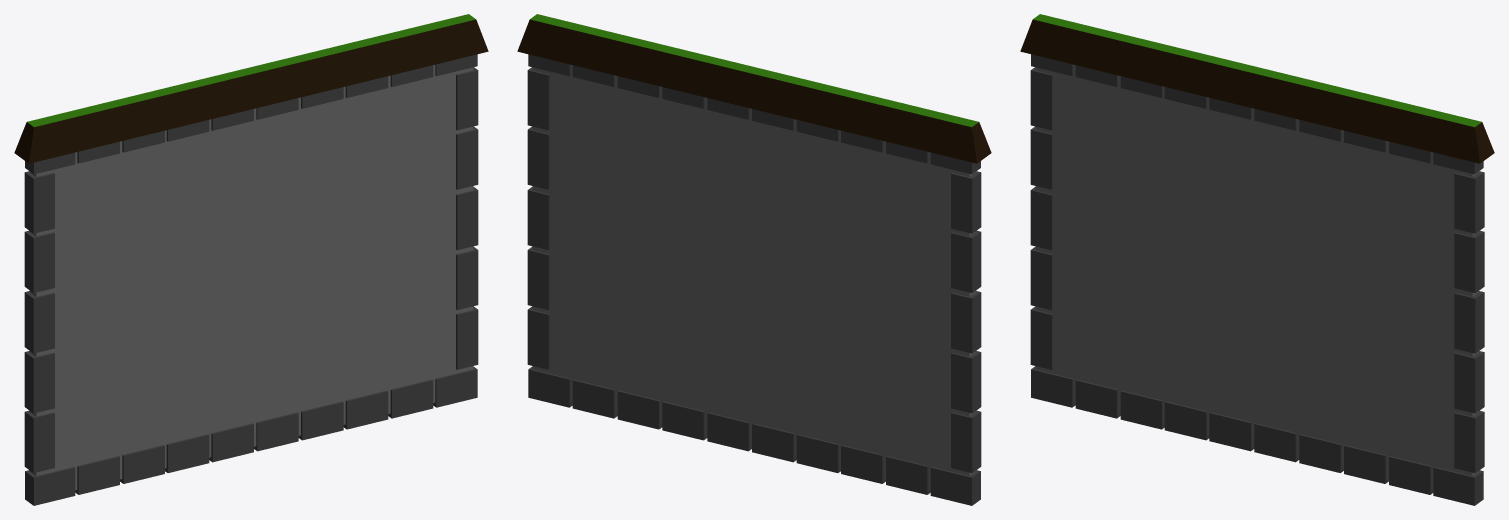
Rendered from Wall1.FBX.
3 renders of one model, left to right at view 1: azimuth 30°, elevation 25°; view 2: azimuth 150°, elevation 25°; view 3: azimuth 330°, elevation 25°, orthographic.
Visible parts, largest first — view 1: SpellWall; view 2: SpellWall; view 3: SpellWall.
Boxes of the visible parts, left/top/right/bottom form: SpellWall: left=14, top=14, right=488, bottom=505; SpellWall: left=517, top=14, right=991, bottom=505; SpellWall: left=1020, top=14, right=1494, bottom=505.
Size of the model in its own units: 39.8 by 31.26 by 2.2.
